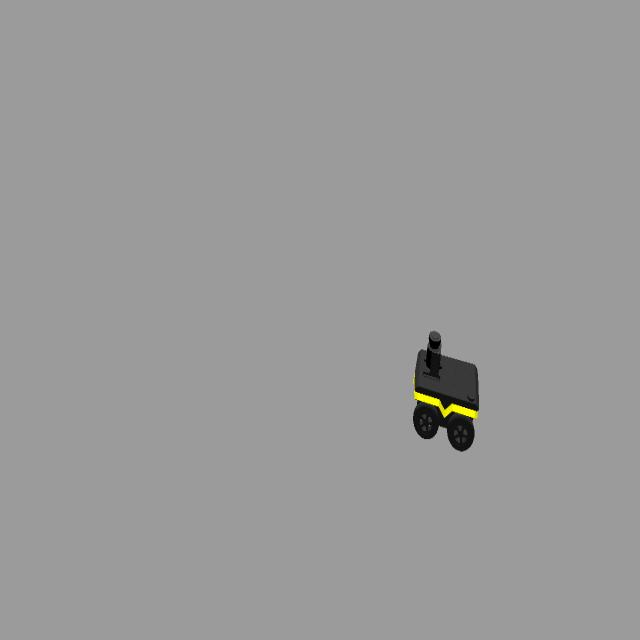jackal: (412, 328, 479, 450)
